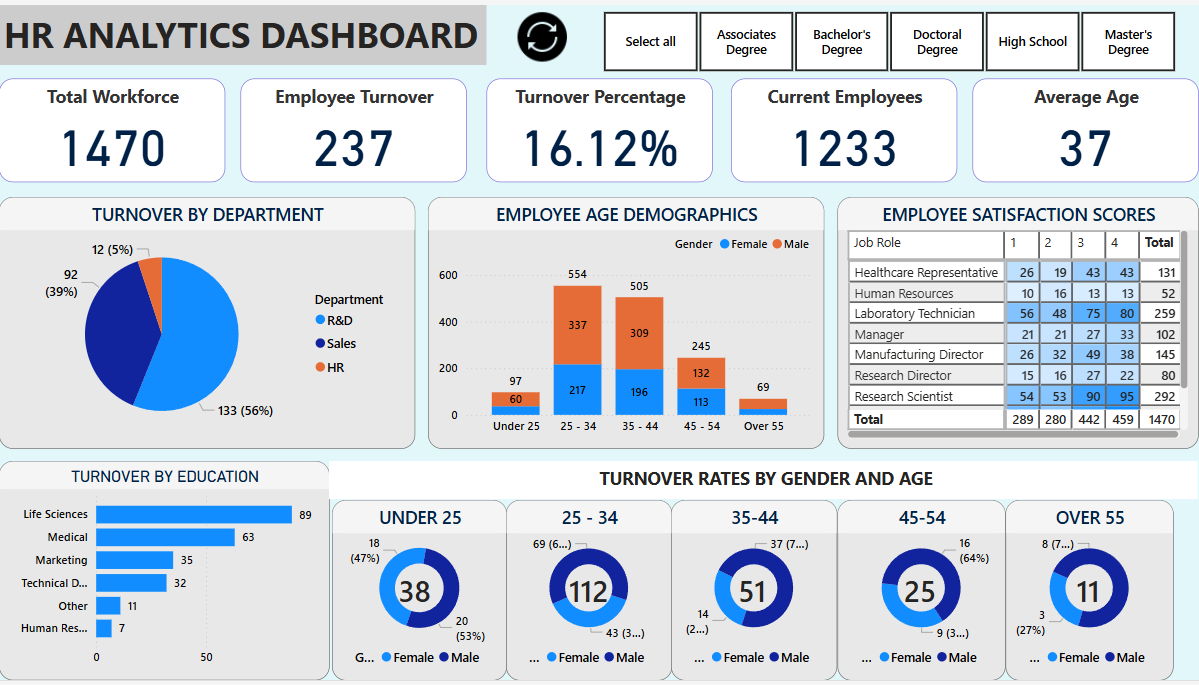

The dashboard page shown, as its layout file describes it:
{"tool":"powerbi","page":{"name":"Page 1","canvas":[1280,720],"ordinal":0},"visuals":[{"type":"card","title":"Total Workforce","fields":{"Values":["Sum(HR data.Employee Count)"]},"box":[0,77.9,241.5,111],"z":0},{"type":"card","title":"Current Employees","fields":{"Values":["HR data.Active Employees"]},"box":[780.9,77.9,241.5,111],"z":1000},{"type":"card","title":"Turnover Percentage","fields":{"Values":["HR data.Attrition rate"]},"box":[519.9,77.9,241.5,111],"z":2000},{"type":"card","title":"Employee Turnover","fields":{"Values":["Sum(HR data.Attrition Count)"]},"box":[257,77.9,241.5,111],"z":3000},{"type":"card","title":"Average Age","fields":{"Values":["Avg(HR data.Age)"]},"box":[1037.9,77.9,241.5,111],"z":4000},{"type":"pieChart","title":"TURNOVER BY DEPARTMENT","fields":{"Category":["HR data.Department"],"Y":["Sum(HR data.Attrition Count)"]},"box":[0,204.5,444,268.7],"z":5000},{"type":"columnChart","title":"EMPLOYEE AGE DEMOGRAPHICS","fields":{"Category":["HR data.CF_age band"],"Y":["Sum(HR data.Employee Count)"],"Series":["HR data.Gender"]},"box":[457.6,204.5,422.6,268.7],"z":6000},{"type":"pivotTable","title":"EMPLOYEE SATISFACTION SCORES","fields":{"Values":["Sum(HR data.Employee Count)"],"Columns":["HR data.Job Satisfaction"],"Rows":["HR data.Job Role"]},"box":[893.8,204.5,385.6,268.7],"z":7000},{"type":"barChart","title":"TURNOVER BY EDUCATION","fields":{"Category":["HR data.Education Field"],"Y":["Sum(HR data.Attrition Count)"]},"box":[0,486.8,352.4,233.7],"z":8000},{"type":"donutChart","title":"UNDER 25","fields":{"Y":["Sum(HR data.Attrition Count)"],"Category":["HR data.Gender"],"Series":["HR data.CF_age band"]},"box":[354.4,527.7,186.9,192.8],"z":9000},{"type":"textbox","box":[352.4,486.8,926.9,40.9],"z":10000},{"type":"donutChart","title":"25 - 34","fields":{"Y":["Sum(HR data.Attrition Count)"],"Category":["HR data.Gender"],"Series":["HR data.CF_age band"]},"box":[541.3,527.7,177.2,192.8],"z":11000},{"type":"donutChart","title":"35-44","fields":{"Y":["Sum(HR data.Attrition Count)"],"Category":["HR data.Gender"],"Series":["HR data.CF_age band"]},"box":[716.6,527.7,177.2,192.8],"z":12000},{"type":"donutChart","title":"45-54","fields":{"Y":["Sum(HR data.Attrition Count)"],"Category":["HR data.Gender"],"Series":["HR data.CF_age band"]},"box":[893.8,527.7,179.2,192.8],"z":13000},{"type":"donutChart","title":"OVER 55","fields":{"Y":["Sum(HR data.Attrition Count)"],"Category":["HR data.Gender"],"Series":["HR data.CF_age band"]},"box":[1072.9,527.7,179.2,192.8],"z":14000},{"type":"card","fields":{"Values":["Sum(HR data.Attrition Count)"]},"box":[395.3,592,95.4,66.2],"z":15000},{"type":"card","fields":{"Values":["Sum(HR data.Attrition Count)"]},"box":[934.7,592,95.4,66.2],"z":16000},{"type":"card","fields":{"Values":["Sum(HR data.Attrition Count)"]},"box":[755.5,592,95.4,66.2],"z":17000},{"type":"card","fields":{"Values":["Sum(HR data.Attrition Count)"]},"box":[580.3,592,95.4,66.2],"z":18000},{"type":"card","fields":{"Values":["Sum(HR data.Attrition Count)"]},"box":[1113.8,592,95.4,66.2],"z":19000},{"type":"textbox","box":[0,0,519.9,64.3],"z":20000},{"type":"slicer","fields":{"Values":["HR data.Education"]},"box":[619.5,0,659.2,77.4],"z":21000},{"type":"image","box":[540.1,0,77.4,67.5],"z":22000}]}

Visuals, with their boxes in screenshot pixels (x1, y1, x2, y2), scaled from the page's 1280x720 canvas onto the 1199x685 screenshot:
"Total Workforce" card: {"left": 0, "top": 74, "right": 226, "bottom": 180}
"Current Employees" card: {"left": 731, "top": 74, "right": 958, "bottom": 180}
"Turnover Percentage" card: {"left": 487, "top": 74, "right": 713, "bottom": 180}
"Employee Turnover" card: {"left": 241, "top": 74, "right": 467, "bottom": 180}
"Average Age" card: {"left": 972, "top": 74, "right": 1198, "bottom": 180}
"TURNOVER BY DEPARTMENT" pieChart: {"left": 0, "top": 195, "right": 416, "bottom": 450}
"EMPLOYEE AGE DEMOGRAPHICS" columnChart: {"left": 429, "top": 195, "right": 824, "bottom": 450}
"EMPLOYEE SATISFACTION SCORES" pivotTable: {"left": 837, "top": 195, "right": 1198, "bottom": 450}
"TURNOVER BY EDUCATION" barChart: {"left": 0, "top": 463, "right": 330, "bottom": 684}
"UNDER 25" donutChart: {"left": 332, "top": 502, "right": 507, "bottom": 684}
textbox: {"left": 330, "top": 463, "right": 1198, "bottom": 502}
"25 - 34" donutChart: {"left": 507, "top": 502, "right": 673, "bottom": 684}
"35-44" donutChart: {"left": 671, "top": 502, "right": 837, "bottom": 684}
"45-54" donutChart: {"left": 837, "top": 502, "right": 1005, "bottom": 684}
"OVER 55" donutChart: {"left": 1005, "top": 502, "right": 1173, "bottom": 684}
card - Sum(HR data.Attrition Count): {"left": 370, "top": 563, "right": 460, "bottom": 626}
card - Sum(HR data.Attrition Count): {"left": 876, "top": 563, "right": 965, "bottom": 626}
card - Sum(HR data.Attrition Count): {"left": 708, "top": 563, "right": 797, "bottom": 626}
card - Sum(HR data.Attrition Count): {"left": 544, "top": 563, "right": 633, "bottom": 626}
card - Sum(HR data.Attrition Count): {"left": 1043, "top": 563, "right": 1133, "bottom": 626}
textbox: {"left": 0, "top": 0, "right": 487, "bottom": 61}
slicer - HR data.Education: {"left": 580, "top": 0, "right": 1198, "bottom": 74}
image: {"left": 506, "top": 0, "right": 578, "bottom": 64}
